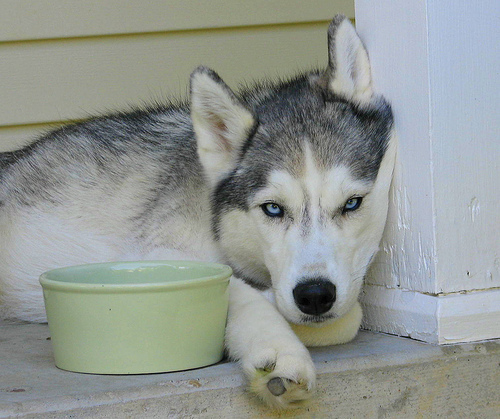dog: (0, 15, 395, 405)
